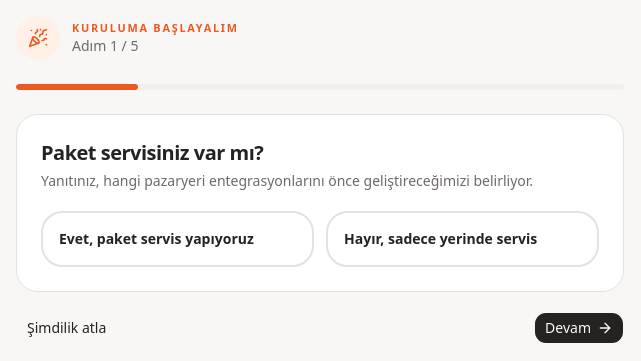
OnboardingWizard › reports what the answers actually configured
Click the button "Şimdilik atla": click(67, 328) [16, 312, 117, 344]
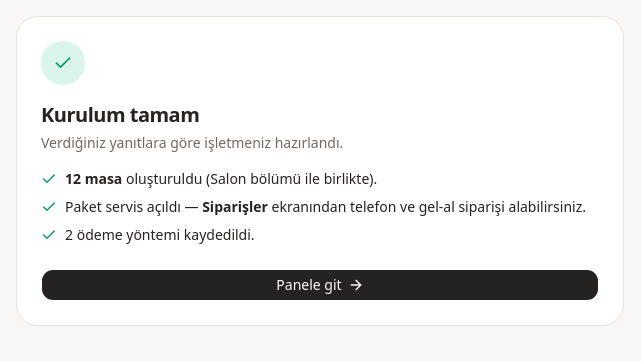
Now the heading "Kurulum tamam" is shown, box [41, 101, 199, 128]
Now the text "12 masa" is shown, box [65, 169, 122, 188]
Now the text "Paket servis açıldı" is shown, box [65, 197, 202, 216]
